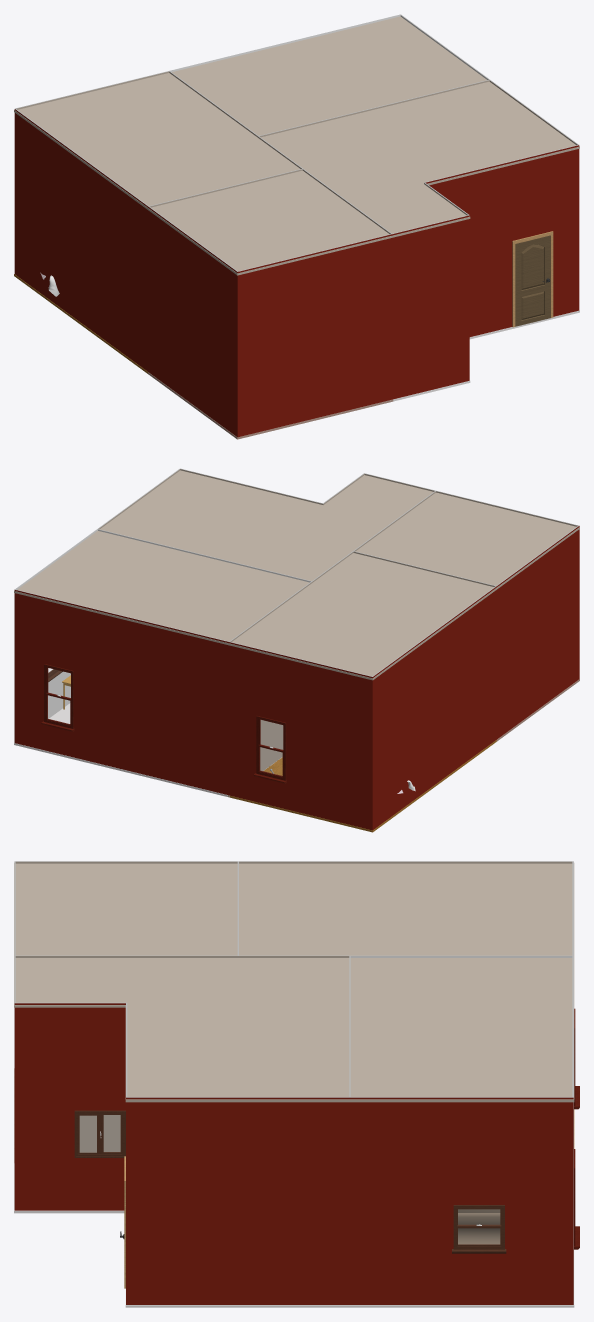
The model's file is ProcTHOR-Train-18.glb.
3 views of the same model, one above another, from view 1: azimuth 30°, elevation 25°; view 2: azimuth 150°, elevation 25°; view 3: azimuth 270°, elevation 25° (orthographic). The views are drawn at different scales.
Visible parts, largest first — view 1: WallInside#wall|exterior|5.94|9.90|9.90|9.90, Ceiling#room|6|c, WallInside#wall|exterior|9.90|0.00|9.90|5.94, Ceiling#room|4|c, Ceiling#room|7|c, WallInside#wall|exterior|0.00|7.92|3.96|7.92, WallInside#wall|exterior|9.90|5.94|9.90|9.90, Ceiling#room|5|c, WallInside#wall|exterior|3.96|9.90|5.94|9.90, Doorway_6, Floor#room|5|f, WallInside#wall|6|0.00|3.96|5.94|3.96 (+1 smaller); view 2: WallInside#wall|exterior|0.00|0.00|5.94|0.00, WallInside#wall|exterior|5.94|0.00|9.90|0.00, Ceiling#room|6|c, WallInside#wall|exterior|9.90|0.00|9.90|5.94, Ceiling#room|4|c, Ceiling#room|7|c, WallInside#wall|exterior|9.90|5.94|9.90|9.90, Ceiling#room|5|c, Window_Hung_32x60 (×2), WallInside#wall|4|5.94|0.00|5.94|3.96, Floor#room|4|f, WallInside#wall|7|0.00|0.00|0.00|3.96 (+2 smaller); view 3: WallInside#wall|exterior|0.00|3.96|0.00|7.92, WallInside#wall|exterior|0.00|0.00|0.00|3.96, Ceiling#room|6|c, Ceiling#room|7|c, Ceiling#room|4|c, Ceiling#room|5|c, WallInside#wall|exterior|3.96|7.92|3.96|9.90, WallInside#wall|6|5.94|5.94|5.94|9.90, Sofa_220_1, Window_Hung_36x32, Window_Slider_36x36, Floor#room|6|f (+3 smaller).
Boxes of the visible parts, left/top/right/bottom form: WallInside#wall|exterior|5.94|9.90|9.90|9.90: left=237, top=234, right=391, bottom=437; Ceiling#room|6|c: left=261, top=81, right=579, bottom=237; WallInside#wall|exterior|9.90|0.00|9.90|5.94: left=14, top=109, right=148, bottom=371; Ceiling#room|4|c: left=14, top=73, right=300, bottom=209; Ceiling#room|7|c: left=172, top=16, right=487, bottom=135; WallInside#wall|exterior|0.00|7.92|3.96|7.92: left=425, top=145, right=579, bottom=336; WallInside#wall|exterior|9.90|5.94|9.90|9.90: left=148, top=206, right=237, bottom=436; Ceiling#room|5|c: left=148, top=170, right=393, bottom=275; WallInside#wall|exterior|3.96|9.90|5.94|9.90: left=392, top=215, right=469, bottom=399; Doorway_6: left=512, top=231, right=553, bottom=327; Floor#room|5|f: left=148, top=372, right=393, bottom=439; WallInside#wall|6|0.00|3.96|5.94|3.96: left=259, top=80, right=489, bottom=137; WallInside#wall|exterior|0.00|0.00|5.94|0.00: left=14, top=589, right=229, bottom=795; WallInside#wall|exterior|5.94|0.00|9.90|0.00: left=229, top=642, right=372, bottom=830; Ceiling#room|6|c: left=100, top=470, right=433, bottom=582; WallInside#wall|exterior|9.90|0.00|9.90|5.94: left=372, top=586, right=496, bottom=829; Ceiling#room|4|c: left=228, top=553, right=496, bottom=680; Ceiling#room|7|c: left=14, top=531, right=309, bottom=645; WallInside#wall|exterior|9.90|5.94|9.90|9.90: left=496, top=525, right=579, bottom=739; Ceiling#room|5|c: left=355, top=492, right=579, bottom=589; Window_Hung_32x60 (×2): left=41, top=664, right=286, bottom=783; WallInside#wall|4|5.94|0.00|5.94|3.96: left=230, top=581, right=312, bottom=770; Floor#room|4|f: left=228, top=740, right=496, bottom=832; WallInside#wall|7|0.00|0.00|0.00|3.96: left=15, top=529, right=97, bottom=718; WallInside#wall|exterior|0.00|3.96|0.00|7.92: left=126, top=1097, right=350, bottom=1304; WallInside#wall|exterior|0.00|0.00|0.00|3.96: left=349, top=1097, right=573, bottom=1304; Ceiling#room|6|c: left=14, top=958, right=350, bottom=1102; Ceiling#room|7|c: left=348, top=958, right=574, bottom=1102; Ceiling#room|4|c: left=237, top=863, right=574, bottom=957; Ceiling#room|5|c: left=14, top=863, right=239, bottom=957; WallInside#wall|exterior|3.96|7.92|3.96|9.90: left=14, top=1003, right=125, bottom=1210; WallInside#wall|6|5.94|5.94|5.94|9.90: left=15, top=956, right=238, bottom=1152; Sofa_220_1: left=458, top=1209, right=500, bottom=1244; Window_Hung_36x32: left=452, top=1205, right=506, bottom=1253; Window_Slider_36x36: left=74, top=1110, right=125, bottom=1157; Floor#room|6|f: left=14, top=1163, right=350, bottom=1307.
Size of what is drawn, in the model's own units: 10.18 by 4.12 by 10.04.
249 materials, 86 textured.
